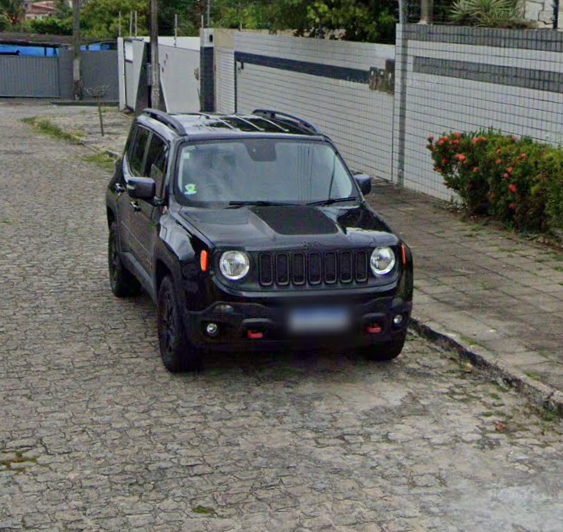car: (102, 102, 418, 373)
